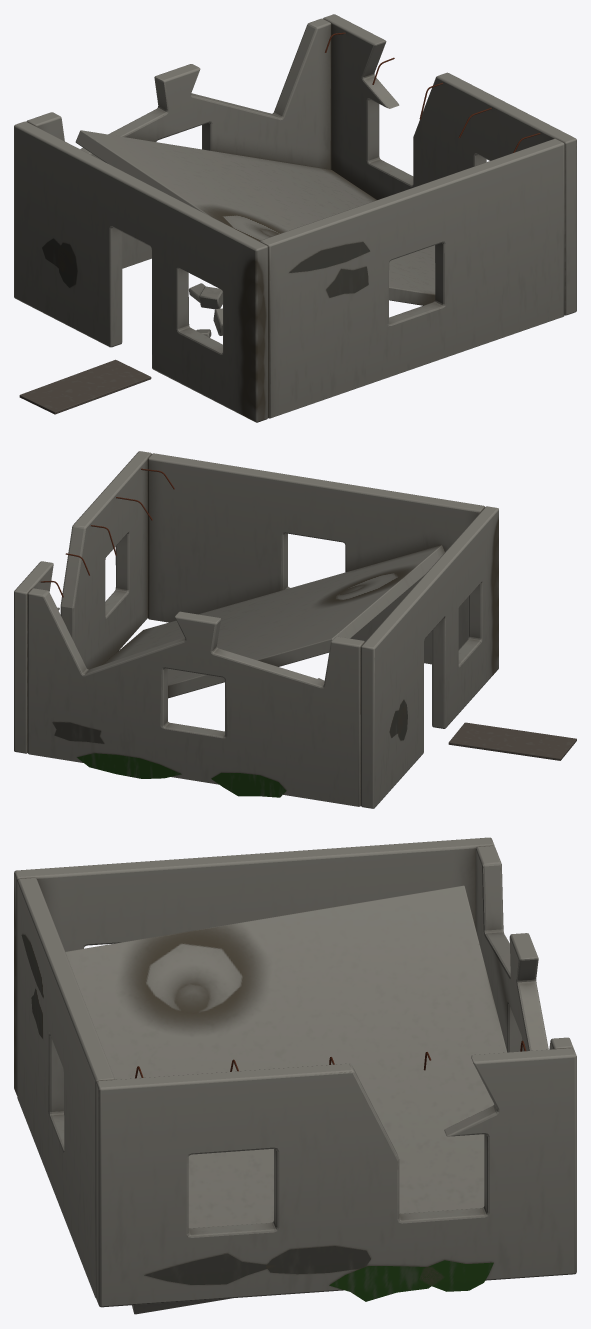
The model's file is casa_a.glb.
3 views of the same model, one above another, from view 1: azimuth 30°, elevation 25°; view 2: azimuth 150°, elevation 25°; view 3: azimuth 270°, elevation 25° (orthographic). The views are drawn at different scales.
Parts seen in each view (by area): view 1: g_casa_a; view 2: g_casa_a; view 3: g_casa_a.
Part boxes in pixels (x1,y1,x2,y2): g_casa_a: (14,14,576,422); g_casa_a: (14,451,576,808); g_casa_a: (14,837,576,1314).
Bounding box in the file's own units: 9.14 × 3.29 × 6.97.
1 material, 1 textured.
